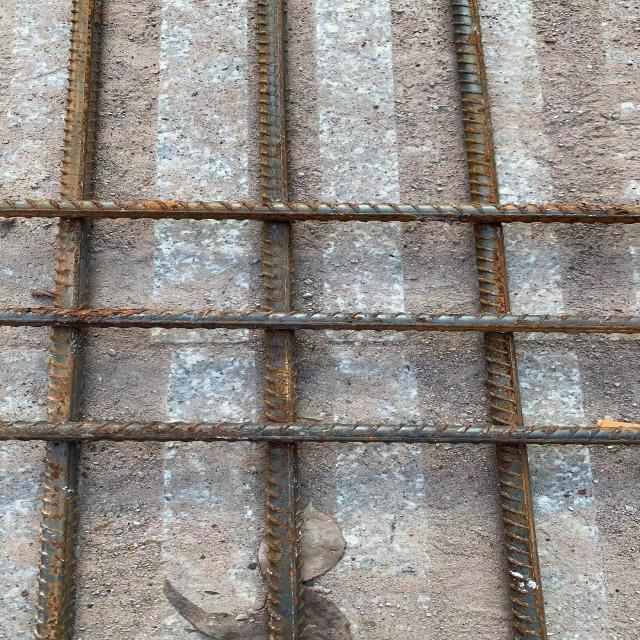ribbed bar: (445, 0, 547, 639), (30, 0, 103, 639), (251, 0, 300, 639), (0, 197, 639, 224), (0, 307, 639, 333), (0, 420, 639, 446)
